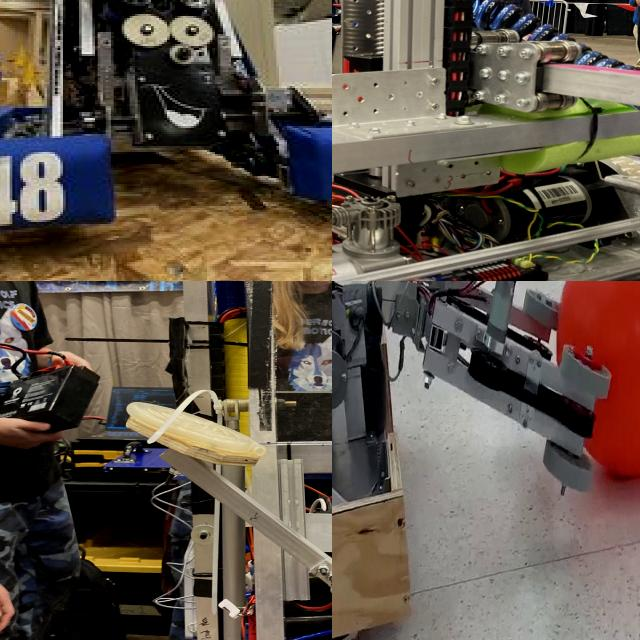FRC-Robots: (0, 0, 332, 281), (332, 0, 640, 281), (109, 281, 332, 640)
